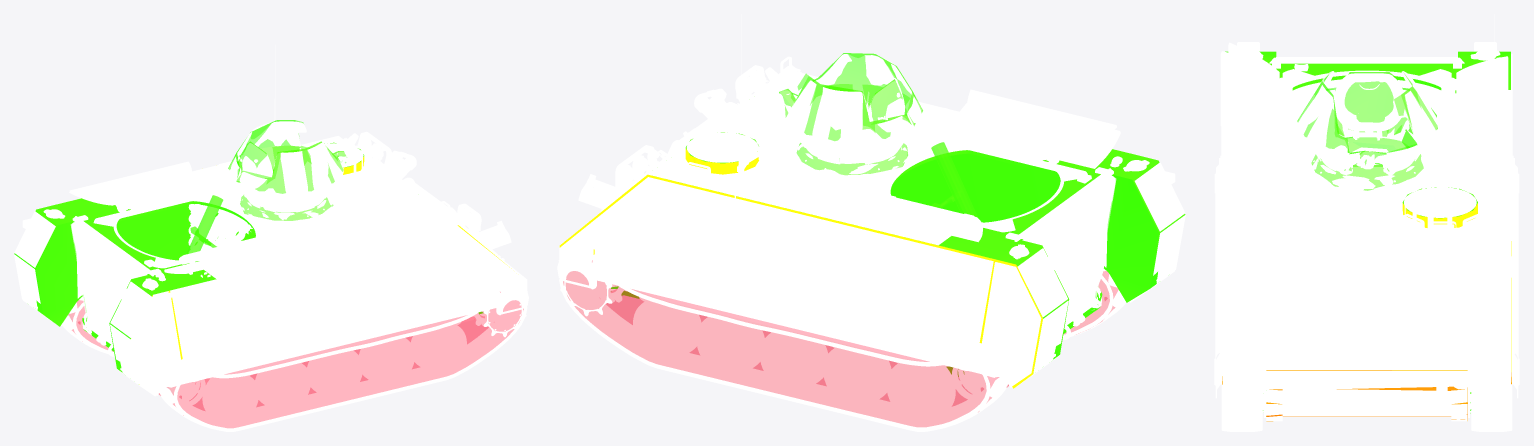
3 renders of one model, left to right at view 1: azimuth 30°, elevation 25°; view 2: azimuth 150°, elevation 25°; view 3: azimuth 270°, elevation 25°, orthographic. The views are drawn at different scales.
Visible parts, largest first — view 1: M1064, M1064_2, M1064_6, SM_M113A3_TrackR_Col_43, M1064_3, SM_M1064A3_Col001, M1064_10, M1064_8, SM_ACV15_OpenTop_Turret_Col_5, M1064_4, SM_M1064A3_Col_Rear_40, SM_M121_Mortar_Col_49 (+2 smaller); view 2: M1064_2, M1064, M1064_6, SM_M113A3_TrackL_Col_46, M1064_3, SM_M1064A3_Col001, M1064_10, M1064_9, SM_ACV15_OpenTop_Turret_Col_5, SM_M1064A3_Col_Rear_40, SM_M1064A3_Col001_2, SM_M121_Mortar_Col_49 (+2 smaller); view 3: M1064, M1064_6, M1064_2, M1064_10, SM_ACV15_OpenTop_Turret_Col_5, M1064_3, SM_M1064A3_Col001, M1064_8, M1064_9, SM_M1064A3_Col_Rear_40, SM_M1064A3_Col001_1, SM_M1064A3_Col001_2 (+1 smaller).
Part boxes in pixels (x1=…): M1064: x1=82, y1=131, x2=527, y2=386; M1064_2: x1=76, y1=45, x2=528, y2=425; M1064_6: x1=69, y1=136, x2=454, y2=278; SM_M113A3_TrackR_Col_43: x1=159, y1=292, x2=523, y2=427; M1064_3: x1=14, y1=196, x2=415, y2=396; SM_M1064A3_Col001: x1=14, y1=142, x2=483, y2=372; M1064_10: x1=228, y1=121, x2=352, y2=224; M1064_8: x1=159, y1=288, x2=527, y2=431; SM_ACV15_OpenTop_Turret_Col_5: x1=228, y1=120, x2=346, y2=220; M1064_4: x1=188, y1=204, x2=252, y2=253; SM_M1064A3_Col_Rear_40: x1=70, y1=223, x2=142, y2=342; SM_M121_Mortar_Col_49: x1=186, y1=195, x2=223, y2=254; M1064_2: x1=557, y1=14, x2=1109, y2=423; M1064: x1=558, y1=65, x2=1101, y2=346; M1064_6: x1=648, y1=72, x2=1120, y2=245; SM_M113A3_TrackL_Col_46: x1=563, y1=260, x2=1008, y2=426; M1064_3: x1=761, y1=96, x2=1185, y2=387; SM_M1064A3_Col001: x1=611, y1=132, x2=1185, y2=376; M1064_10: x1=777, y1=53, x2=922, y2=179; M1064_9: x1=559, y1=256, x2=1008, y2=431; SM_ACV15_OpenTop_Turret_Col_5: x1=779, y1=53, x2=922, y2=175; SM_M1064A3_Col_Rear_40: x1=1027, y1=178, x2=1116, y2=322; SM_M1064A3_Col001_2: x1=559, y1=148, x2=1042, y2=388; SM_M121_Mortar_Col_49: x1=931, y1=142, x2=978, y2=218; M1064: x1=1221, y1=65, x2=1512, y2=421; M1064_6: x1=1220, y1=42, x2=1510, y2=233; M1064_2: x1=1214, y1=14, x2=1519, y2=424; M1064_10: x1=1297, y1=71, x2=1439, y2=191; SM_ACV15_OpenTop_Turret_Col_5: x1=1297, y1=69, x2=1437, y2=190; M1064_3: x1=1228, y1=42, x2=1512, y2=227; SM_M1064A3_Col001: x1=1225, y1=51, x2=1510, y2=413; M1064_8: x1=1221, y1=384, x2=1262, y2=431; M1064_9: x1=1471, y1=384, x2=1512, y2=431; SM_M1064A3_Col_Rear_40: x1=1292, y1=79, x2=1441, y2=129; SM_M1064A3_Col001_1: x1=1222, y1=370, x2=1511, y2=421; SM_M1064A3_Col001_2: x1=1402, y1=203, x2=1511, y2=371.
Size of what is drawn, in the model's own units: 5.33 by 3.82 by 2.84.
